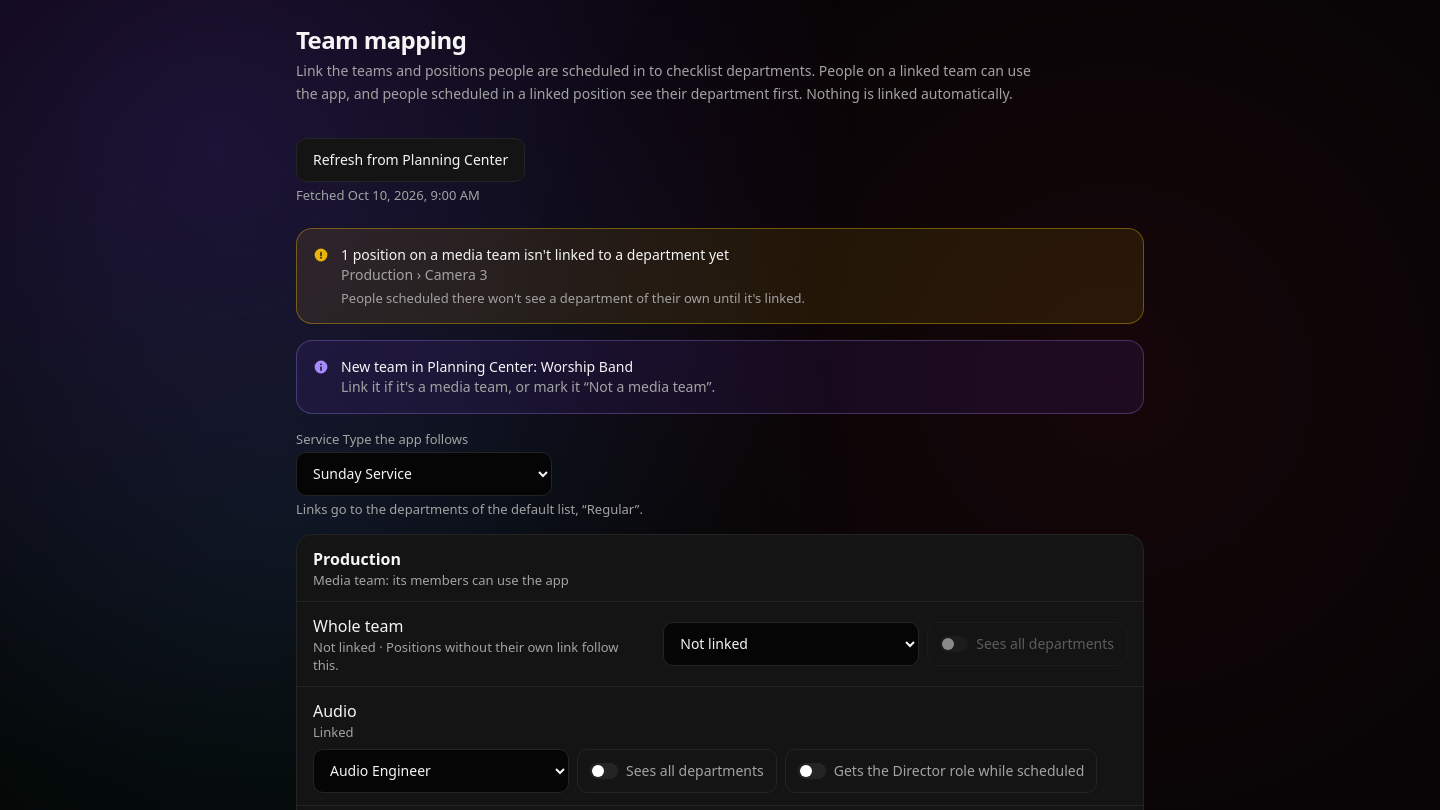
Test: team mapping page › turns on the Director role while scheduled for a linked position, and only there
Expected: the heading "Team mapping" is shown, [296,23,466,56]
Click the switch named "Audio: gets the Director role while scheduled". click: (941, 770)
box: [785,748,1097,792]
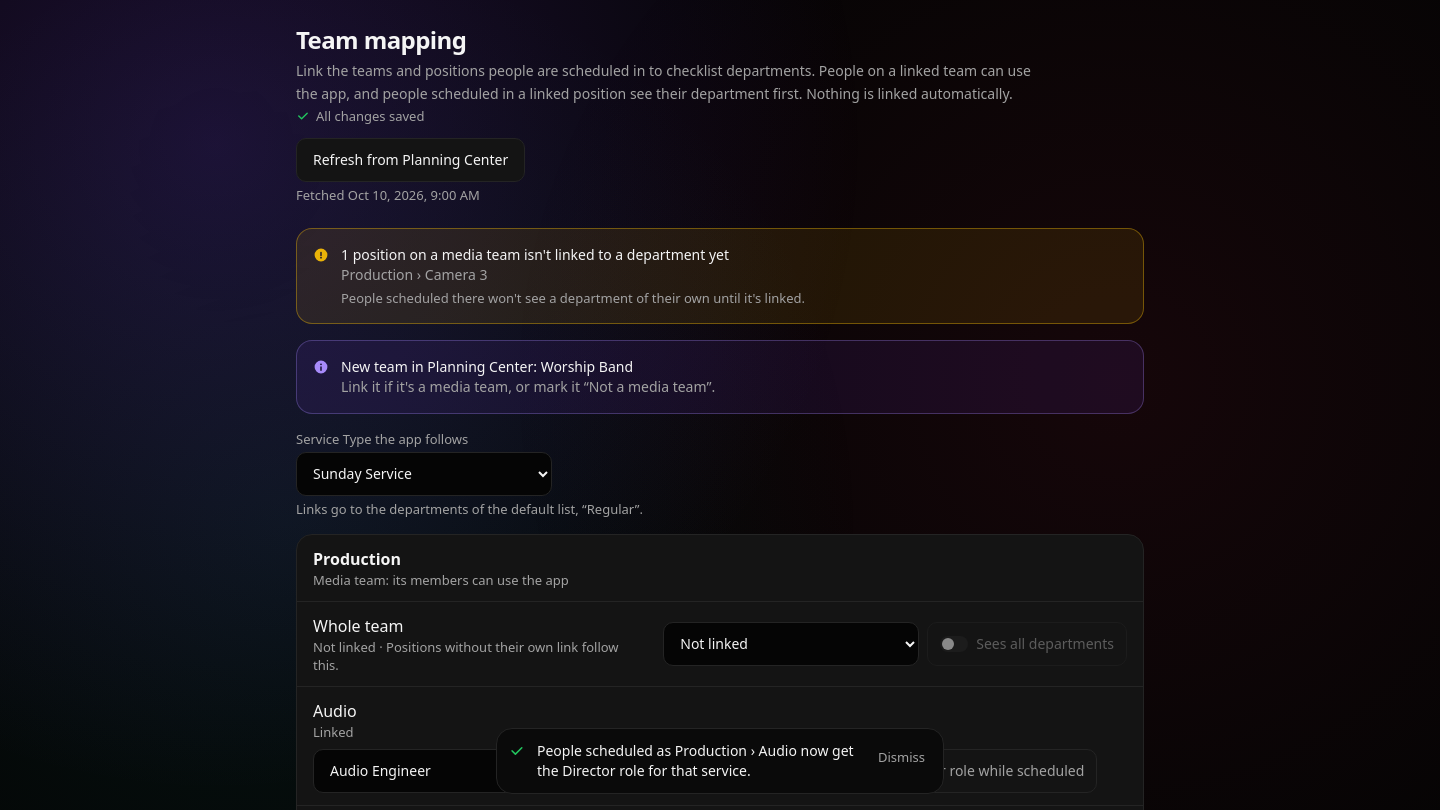
Expected: the text "People scheduled as Production › Audio now get the Director role for that service." is shown, [537,741,854,780]
